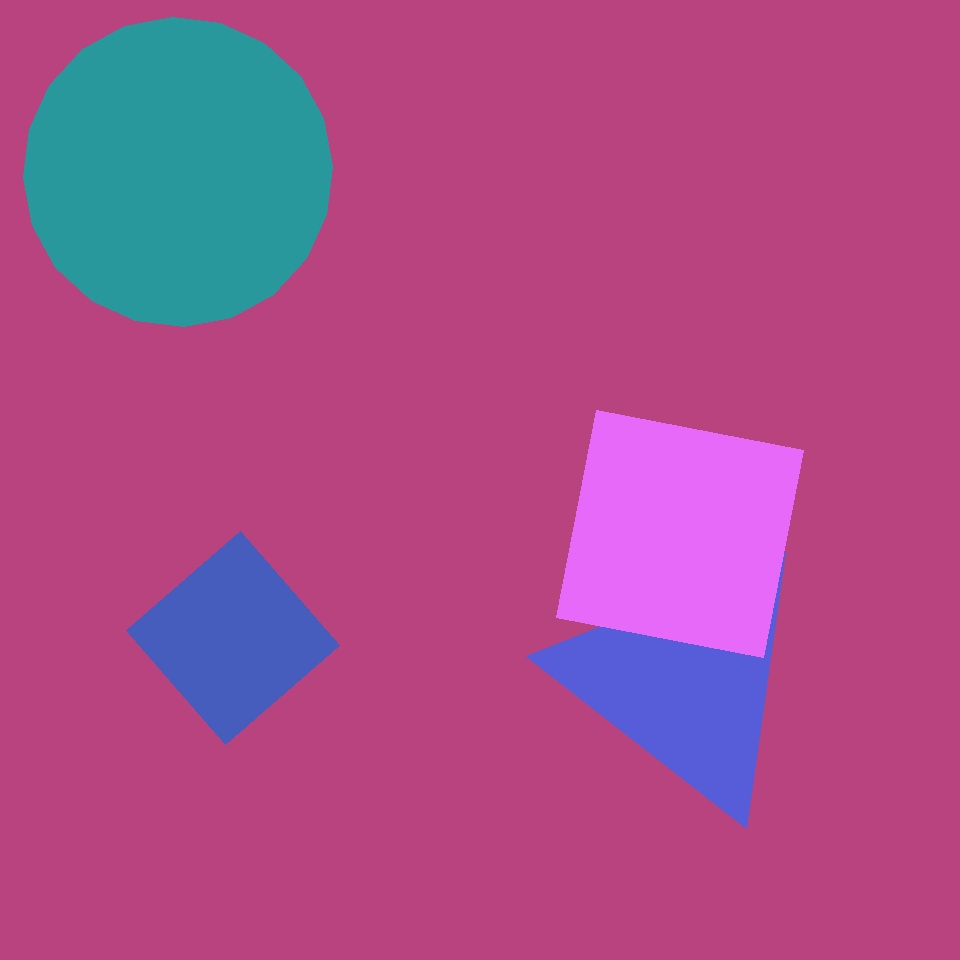circle: (278, 483, 586, 807), (556, 541, 816, 817)
square: (556, 410, 804, 658), (126, 532, 340, 744)
triangle: (215, 419, 584, 787), (23, 17, 332, 326)
